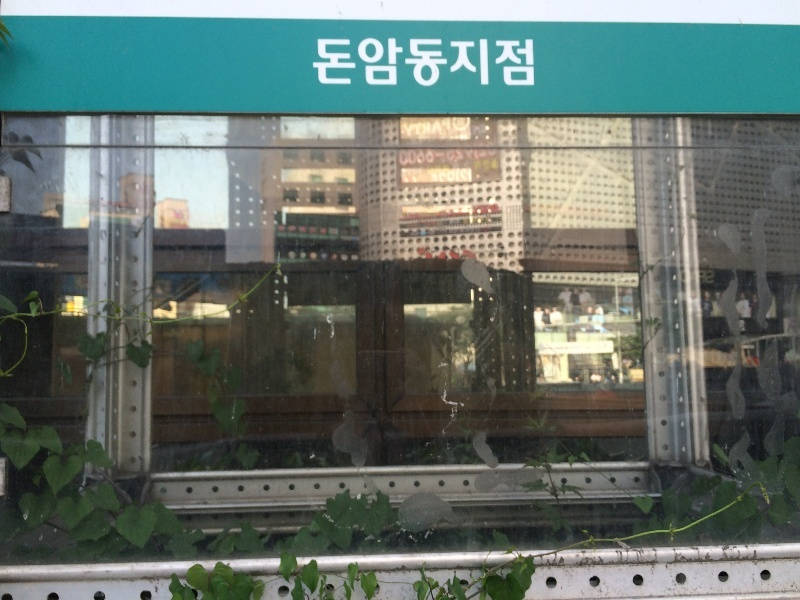text: (321, 38, 336, 88), (337, 38, 352, 88), (353, 38, 368, 88), (369, 38, 384, 88), (385, 38, 400, 88), (401, 38, 416, 88), (417, 38, 432, 88), (433, 38, 448, 88), (449, 38, 464, 88), (465, 38, 480, 88), (481, 38, 496, 88), (497, 38, 512, 88), (513, 38, 528, 88), (401, 143, 416, 169), (417, 143, 432, 169), (433, 143, 448, 169), (449, 143, 464, 169), (465, 143, 480, 169), (481, 143, 496, 169), (417, 116, 432, 140), (433, 116, 448, 140), (449, 116, 464, 140), (313, 38, 320, 88), (402, 116, 416, 140), (529, 38, 535, 88), (417, 168, 432, 184), (433, 168, 448, 184), (449, 168, 464, 184), (402, 168, 416, 184), (705, 269, 715, 284), (465, 116, 471, 140), (465, 168, 472, 184), (700, 269, 704, 284), (398, 143, 400, 169), (497, 143, 499, 169)
